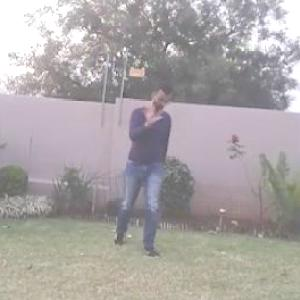follow_hand: (141, 99, 164, 128)
